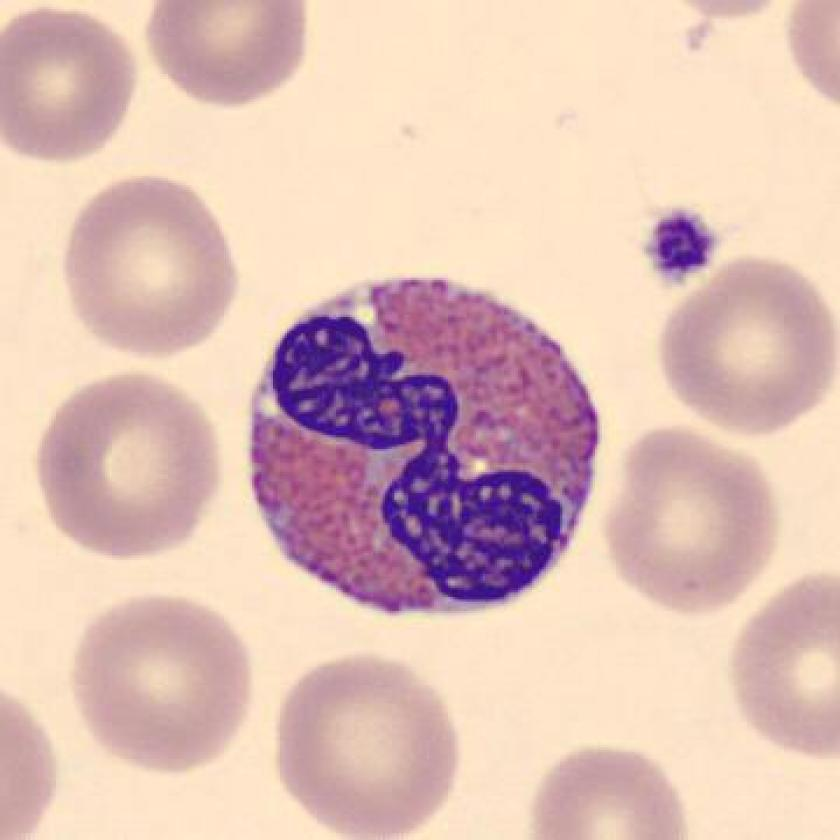eosinophil: (230, 263, 612, 631)
